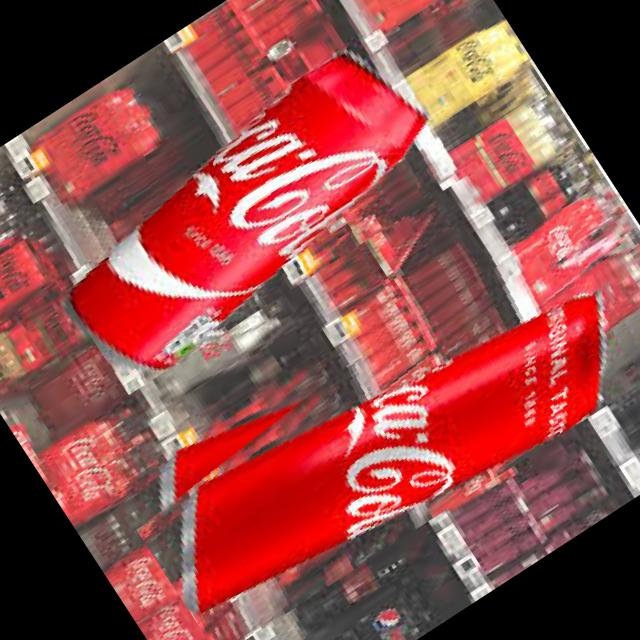Cans: (109, 197, 640, 640), (28, 12, 480, 395)
